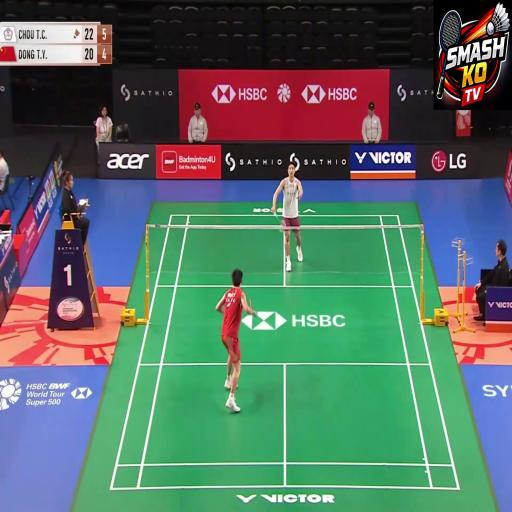player: (256, 150, 310, 283), (214, 274, 265, 406)
